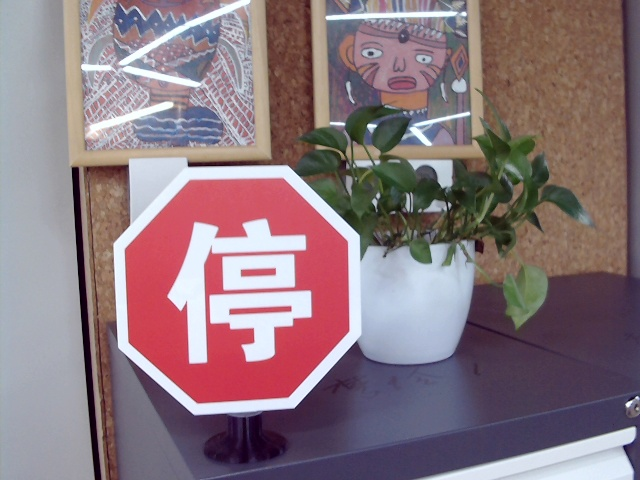stop: (166, 217, 314, 365)
